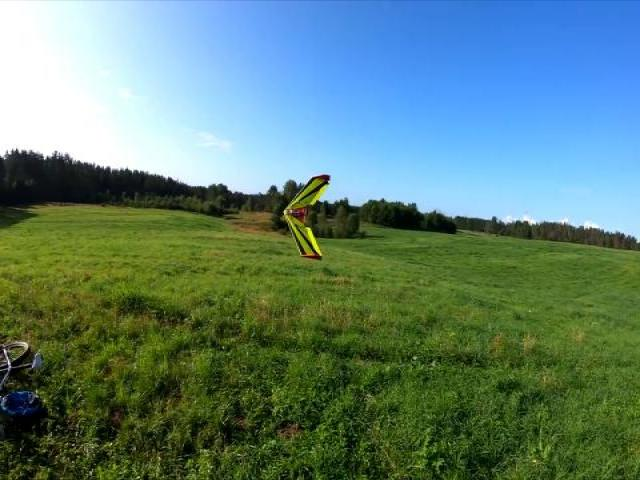flying wing: (282, 170, 334, 264)
